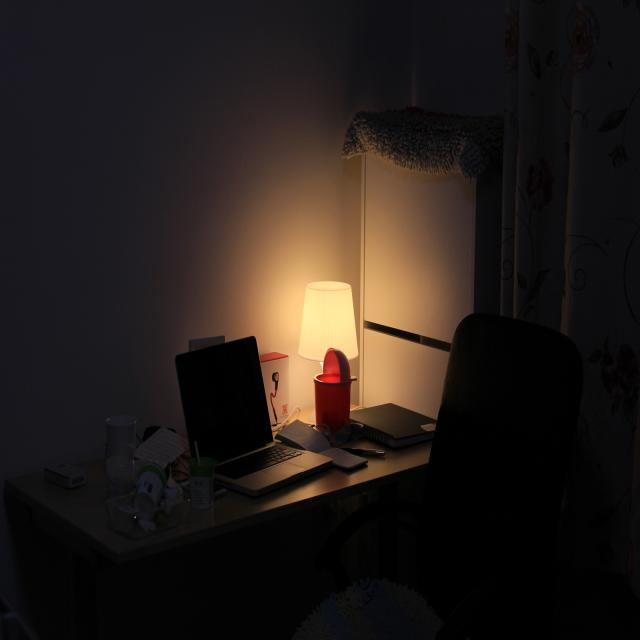Cup: (184, 443, 219, 521), (130, 456, 170, 523)
Table: (8, 382, 571, 589)
chair: (445, 290, 582, 640)
